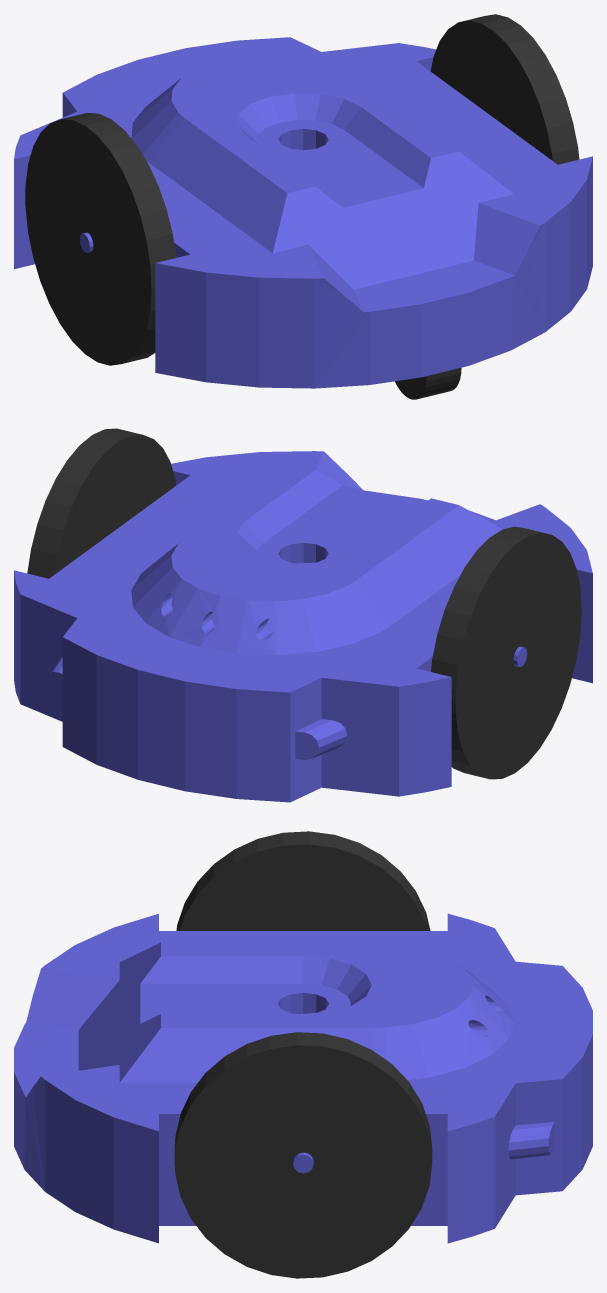
File: Scribbler.obj
3 views of the same model, one above another, from view 1: azimuth 30°, elevation 25°; view 2: azimuth 150°, elevation 25°; view 3: azimuth 270°, elevation 25° (orthographic). The views are drawn at different scales.
Parts seen in each view (by area): view 1: Body_Body, LeftWheel_LeftWheel, RightWheel_RightWheel, Castor_Castor; view 2: Body_Body, LeftWheel_LeftWheel, RightWheel_RightWheel; view 3: Body_Body, RightWheel_RightWheel, LeftWheel_LeftWheel.
Part boxes in pixels (box(x1,y1,x2,y2)): Body_Body: box(14, 37, 592, 388); LeftWheel_LeftWheel: box(25, 113, 176, 365); RightWheel_RightWheel: box(430, 14, 579, 164); Castor_Castor: box(395, 367, 461, 399); Body_Body: box(14, 451, 592, 802); LeftWheel_LeftWheel: box(431, 526, 581, 779); RightWheel_RightWheel: box(27, 428, 176, 578); Body_Body: box(14, 913, 592, 1243); RightWheel_RightWheel: box(174, 1032, 432, 1278); LeftWheel_LeftWheel: box(176, 831, 430, 930).
Bounding box in the file's own units: 0.1588 × 0.0793 × 0.1783.
